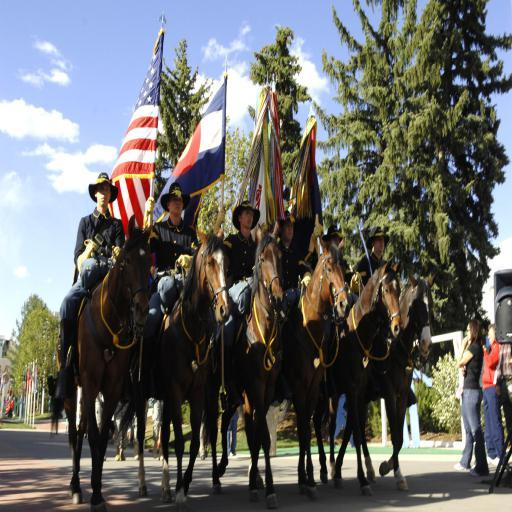Horse: (55, 211, 437, 511)
